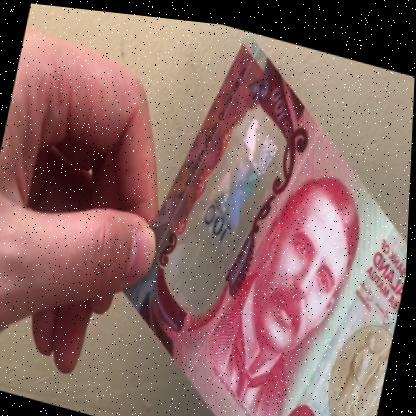100F: (162, 92, 288, 302)
